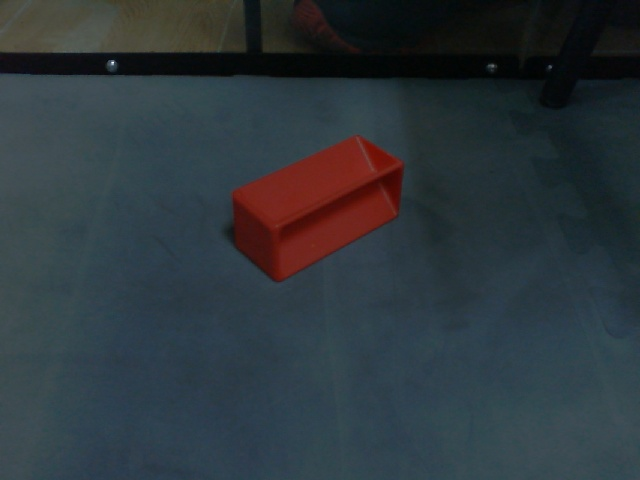RedSample: (228, 131, 407, 286)
